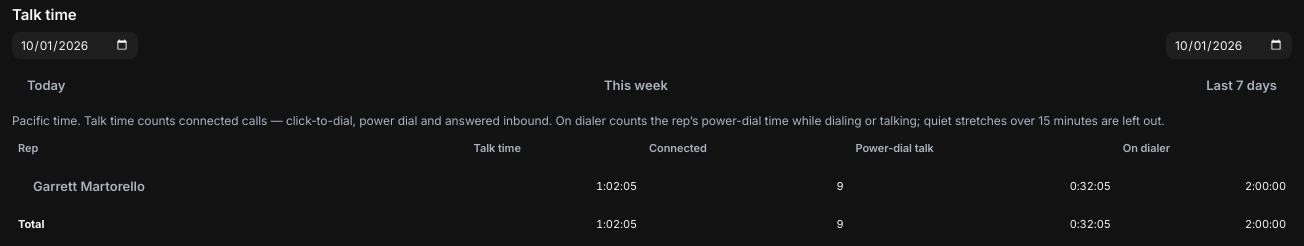
Test: TalkTimePanel › an error on reload clears the previous range's table — never stale rows under a new-range error
Expected: the button "Garrett Martorello" is shown, [18,166,160,207]
Click the button "This week": {"x": 636, "y": 86} [589,65,683,106]
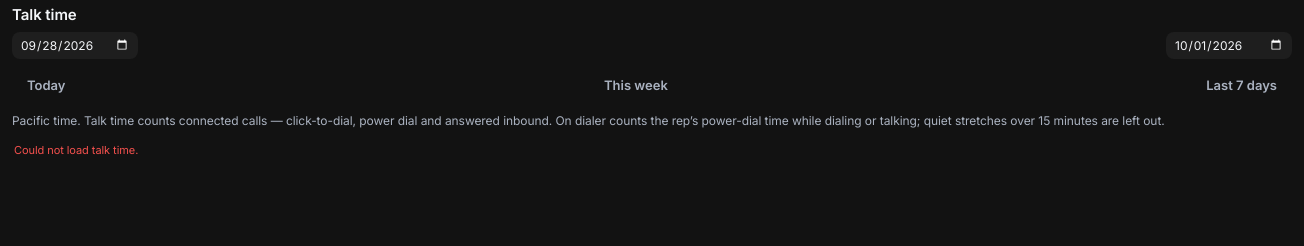
Now the message "Could not load talk time." is shown, box [14,143,138,157]
Now the button "Garrett Martorello" is gone
Now the text "Total" is gone
